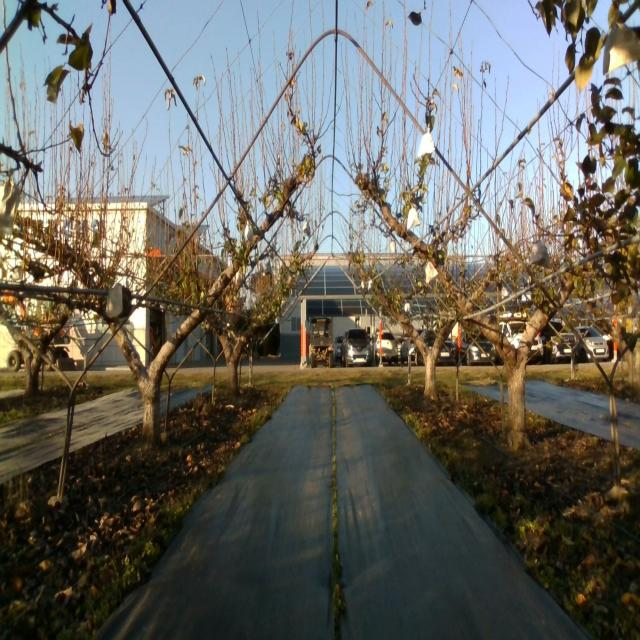pearbags: (601, 19, 640, 78), (529, 242, 551, 270), (417, 126, 435, 158), (424, 260, 438, 284), (407, 205, 420, 230)
